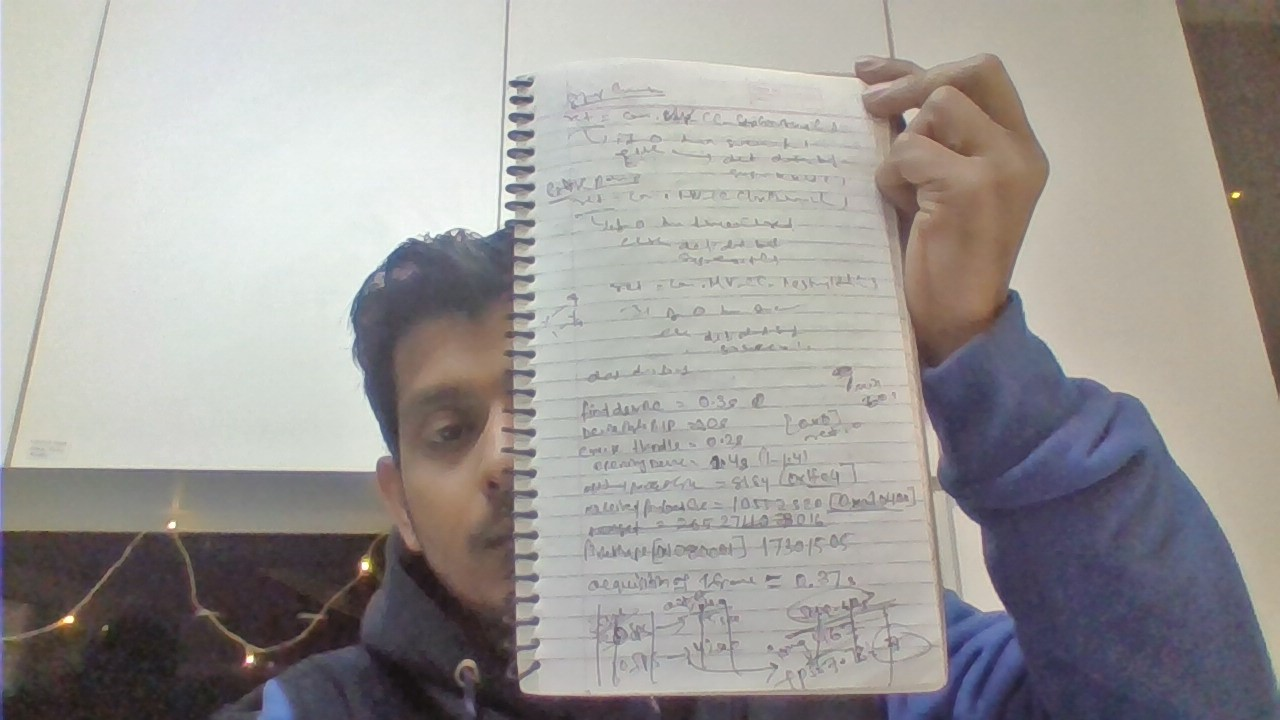notebook: (510, 58, 951, 707)
